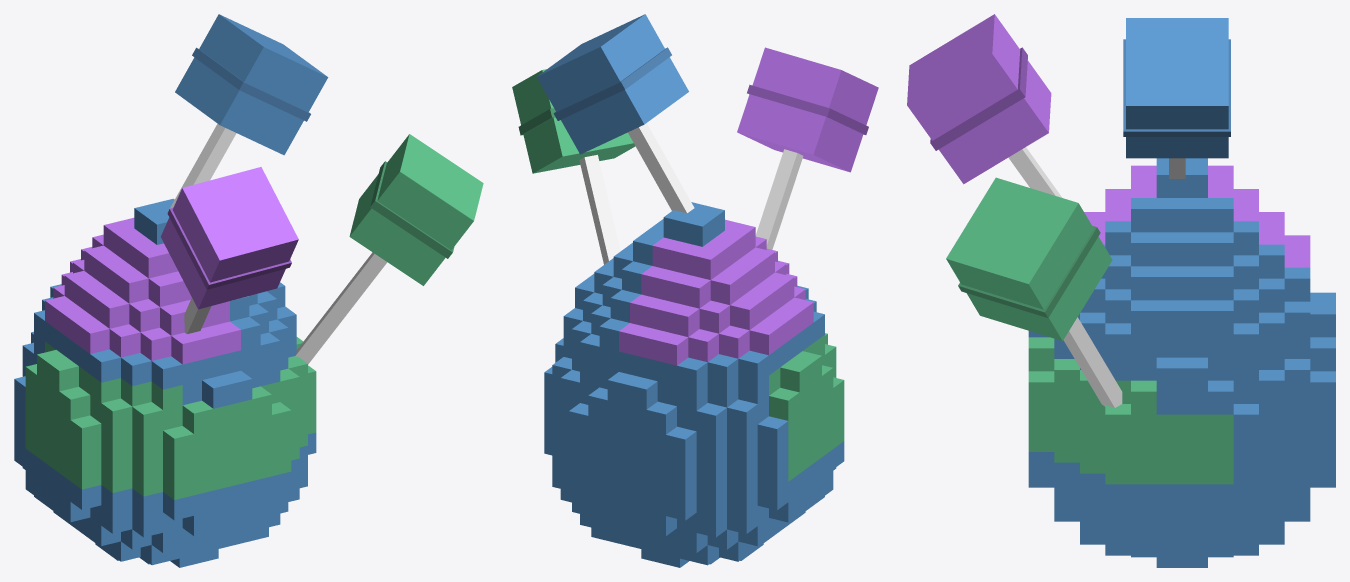
File: Lolipop_Egg.glb
3 views of the same model, side by side, from view 1: azimuth 30°, elevation 25°; view 2: azimuth 150°, elevation 25°; view 3: azimuth 270°, elevation 25° (orthographic). The views are drawn at different scales.
Parts seen in each view (by area): view 1: Cube_copy_copy_copy_copy_copy_copy_copy_copy_copy_copy_copy_ (×34), Cube_copy_copy_copy_2, Cube_copy_copy_copy_copy_copy_5, Cube_copy_1, Cube_copy_4, Cube_copy_copy_copy, Cube_copy_copy_copy_copy_copy_copy_copy_copy_copy, Cube_copy_copy_copy_6, Cube_copy_copy_copy_9, Cube_copy_copy_copy_copy_copy_copy_copy_4, Cube_copy_copy_copy_copy_3, Cube_copy_copy_copy_copy (+12 smaller); view 2: Cube_copy_copy_copy_copy_copy_copy_copy_copy_copy_copy_copy_ (×59), Cube_copy_copy_4, Cube, Cube_copy_copy_1, Cube_copy_copy_copy_copy_copy_17, Cube_copy_copy_copy_20, Cube_copy_copy_copy_copy_copy_15, Cube_copy_copy_copy_copy_copy_copy_copy_25, Cube_copy_copy_copy_copy_copy, Cube_copy_copy_copy_3, Cube_copy_copy_copy_copy_1, Cube_copy_copy_copy_copy_copy_copy_copy_copy_copy_13 (+14 smaller); view 3: Cube_copy_copy_copy_copy_copy_copy_copy_copy_copy_copy_copy_ (×59), Cube_copy_copy_copy_copy_6, Cube_copy_copy_copy_13, Cube_copy_copy_8, Cube_copy_5, Cube_copy_copy_12, Cube_copy_copy_copy_copy_9, Cube_copy_copy_copy_copy_copy_copy_copy_copy_copy_copy_3, Cube_copy_copy_15, Cube_copy_copy_copy_copy_15, Cube_copy_copy_copy_copy_18, Cube_copy_copy_copy_copy_11 (+52 smaller).
Part boxes in pixels (x1,y1,x2,y2): Cube_copy_copy_copy_copy_copy_copy_copy_copy_copy_copy_copy_ (×34): [79, 14, 483, 552]; Cube_copy_copy_copy_2: [70, 415, 101, 448]; Cube_copy_copy_copy_copy_copy_5: [101, 398, 132, 431]; Cube_copy_1: [59, 386, 90, 419]; Cube_copy_4: [182, 400, 213, 433]; Cube_copy_copy_copy: [48, 358, 78, 391]; Cube_copy_copy_copy_copy_copy_copy_copy_copy_copy: [90, 349, 120, 382]; Cube_copy_copy_copy_6: [202, 375, 232, 408]; Cube_copy_copy_copy_9: [163, 426, 193, 458]; Cube_copy_copy_copy_copy_copy_copy_copy_4: [101, 485, 132, 513]; Cube_copy_copy_copy_copy_3: [101, 424, 132, 451]; Cube_copy_copy_copy_copy: [70, 441, 101, 468]; Cube_copy_copy_copy_copy_copy_copy_copy_copy_copy_copy_copy_ (×59): [512, 14, 878, 552]; Cube_copy_copy_4: [757, 416, 788, 449]; Cube: [769, 387, 799, 420]; Cube_copy_copy_1: [780, 359, 810, 392]; Cube_copy_copy_copy_copy_copy_17: [666, 426, 696, 459]; Cube_copy_copy_copy_20: [646, 401, 676, 434]; Cube_copy_copy_copy_copy_copy_15: [627, 376, 657, 409]; Cube_copy_copy_copy_copy_copy_copy_copy_25: [696, 403, 726, 435]; Cube_copy_copy_copy_copy_copy: [757, 482, 788, 510]; Cube_copy_copy_copy_3: [757, 441, 788, 469]; Cube_copy_copy_copy_copy_1: [757, 462, 788, 489]; Cube_copy_copy_copy_copy_copy_copy_copy_copy_copy_13: [696, 489, 726, 517]; Cube_copy_copy_copy_copy_copy_copy_copy_copy_copy_copy_copy_ (×59): [907, 14, 1310, 543]; Cube_copy_copy_copy_copy_6: [1028, 371, 1054, 405]; Cube_copy_copy_copy_13: [1156, 357, 1182, 391]; Cube_copy_copy_8: [1028, 337, 1054, 371]; Cube_copy_5: [1131, 380, 1156, 414]; Cube_copy_copy_12: [1208, 380, 1233, 414]; Cube_copy_copy_copy_copy_9: [1182, 357, 1207, 391]; Cube_copy_copy_copy_copy_copy_copy_copy_copy_copy_copy_3: [1233, 323, 1258, 357]; Cube_copy_copy_15: [1310, 337, 1335, 371]; Cube_copy_copy_copy_copy_15: [1310, 303, 1335, 337]; Cube_copy_copy_copy_copy_18: [1310, 371, 1335, 405]; Cube_copy_copy_copy_copy_11: [1233, 404, 1258, 437].
Size of the model in its own units: 1.88 by 2.41 by 1.67.
